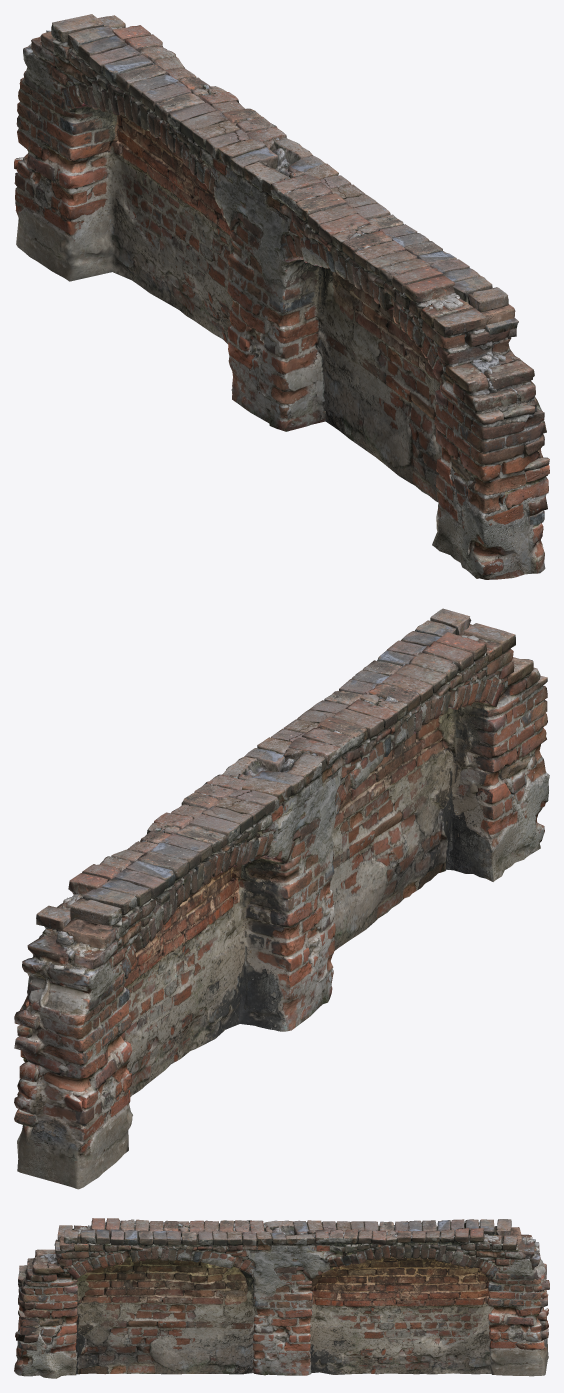
File: sm_Wall_03_01.fbx
3 views of the same model, one above another, from view 1: azimuth 30°, elevation 25°; view 2: azimuth 150°, elevation 25°; view 3: azimuth 270°, elevation 25° (orthographic). The views are drawn at different scales.
Visible parts, largest first — view 1: sm_Wall_03_01_LOD0; view 2: sm_Wall_03_01_LOD0; view 3: sm_Wall_03_01_LOD0.
Boxes of the visible parts, x1,y1,x2,y2 form: sm_Wall_03_01_LOD0: (14,14,549,579); sm_Wall_03_01_LOD0: (14,608,549,1189); sm_Wall_03_01_LOD0: (14,1218,549,1378).
Size of the model in its own units: 53.15 by 536 by 155.
